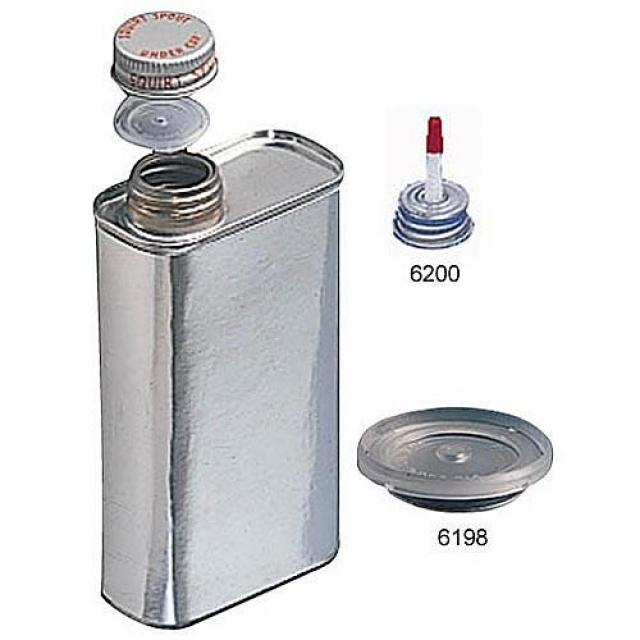metel: (100, 155, 336, 596)
